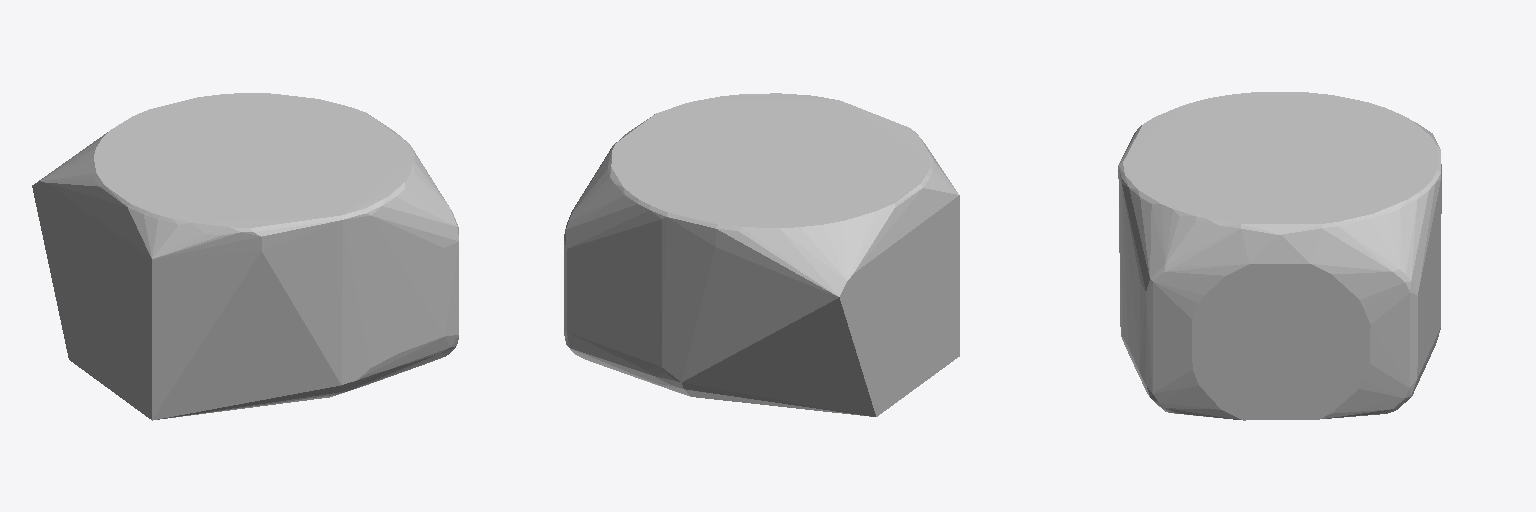
File: solo12_hip_fe_collision_4.obj
3 views of the same model, side by side, from view 1: azimuth 30°, elevation 25°; view 2: azimuth 150°, elevation 25°; view 3: azimuth 270°, elevation 25° (orthographic).
Size of the model in its own units: 0.0384 by 0.0239 by 0.0363.